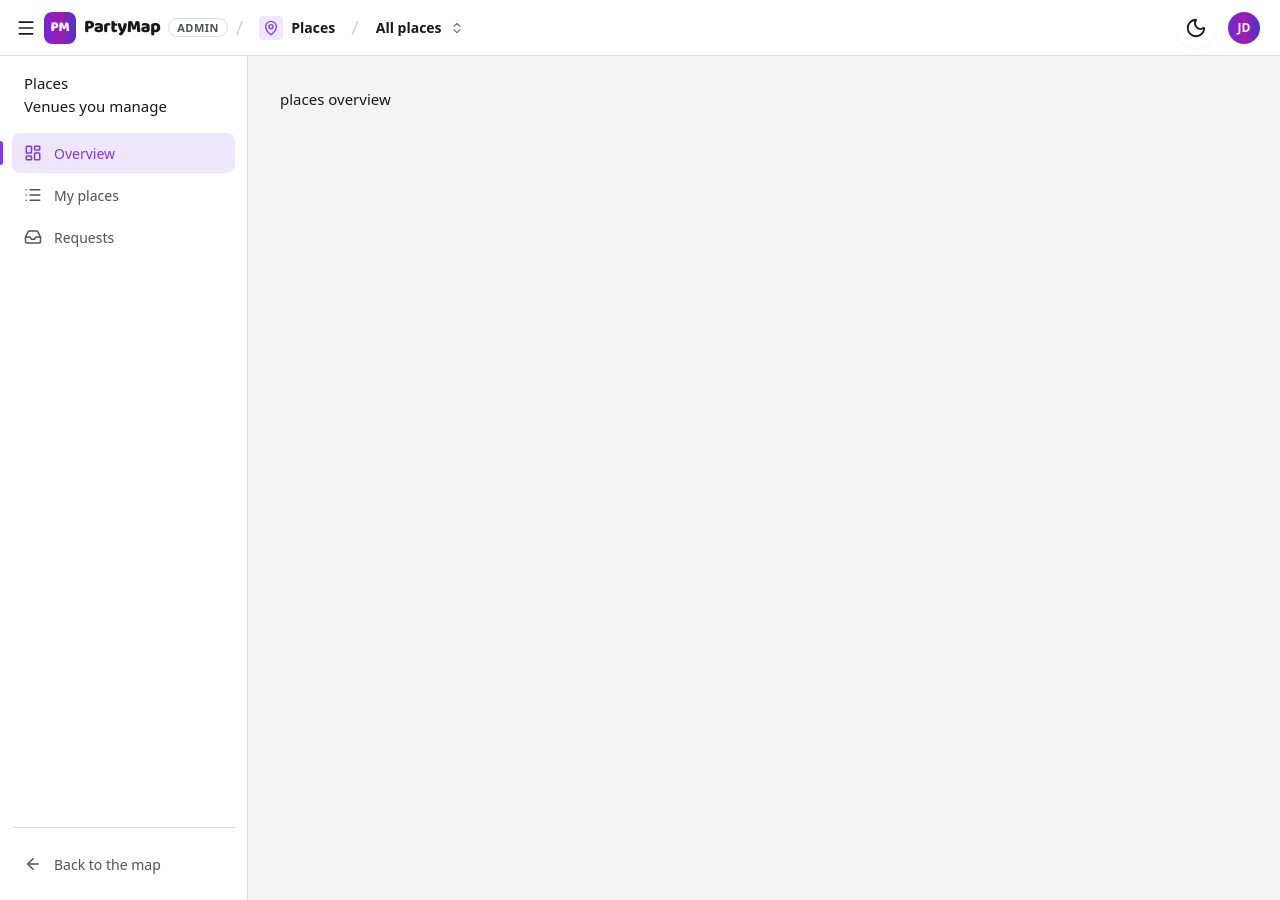
Scenario: AdminShell › a place's own area › offers every place in a second switcher, with all places and a new one
Click the button with aria-label "Place: All places. Switch place" at (420, 28), box [367, 10, 473, 46]
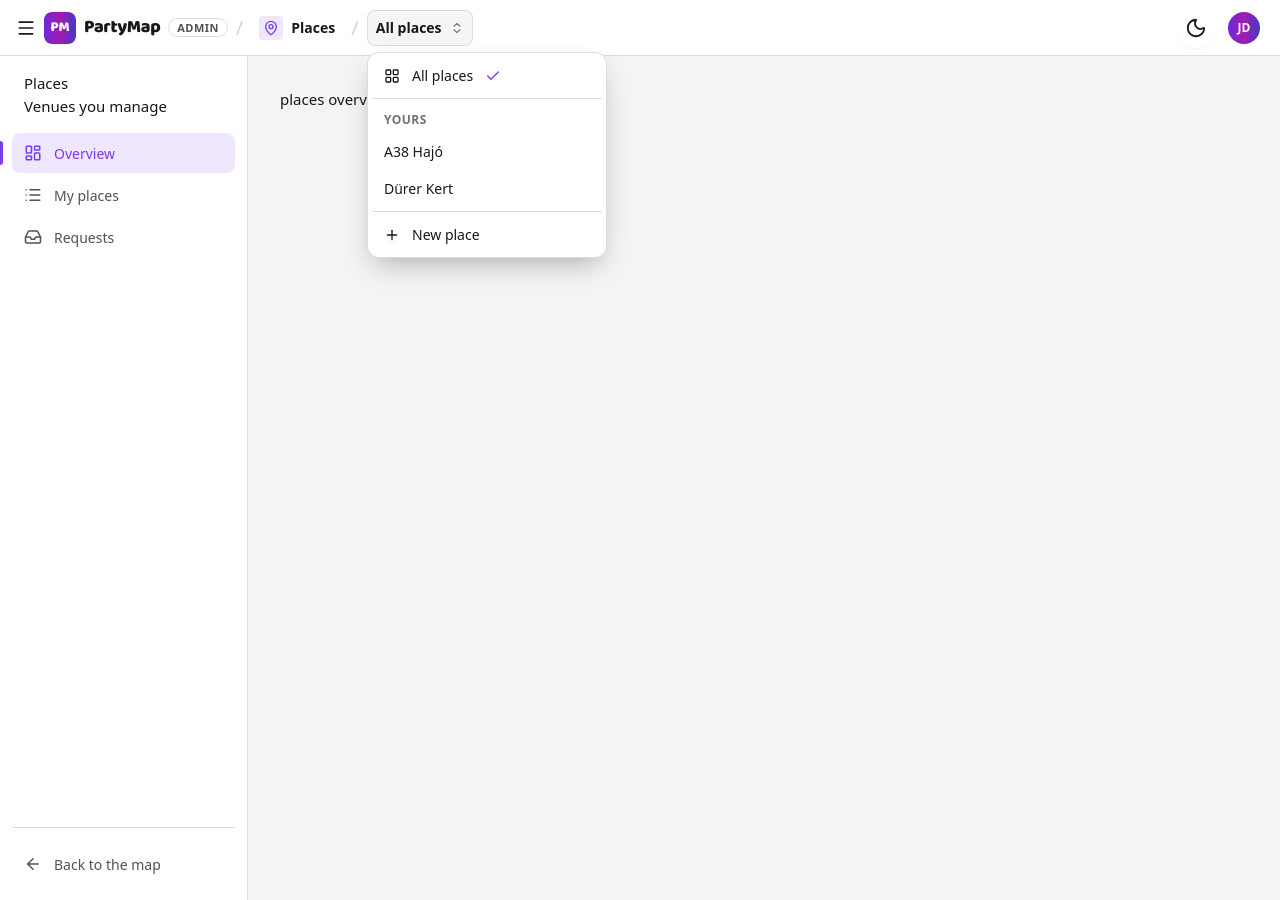
Result: the menu items read "All places", "A38 Hajó", "Dürer Kert", "New place", in this order
Click the menu item "A38 Hajó" at (413, 152), box [384, 142, 443, 161]
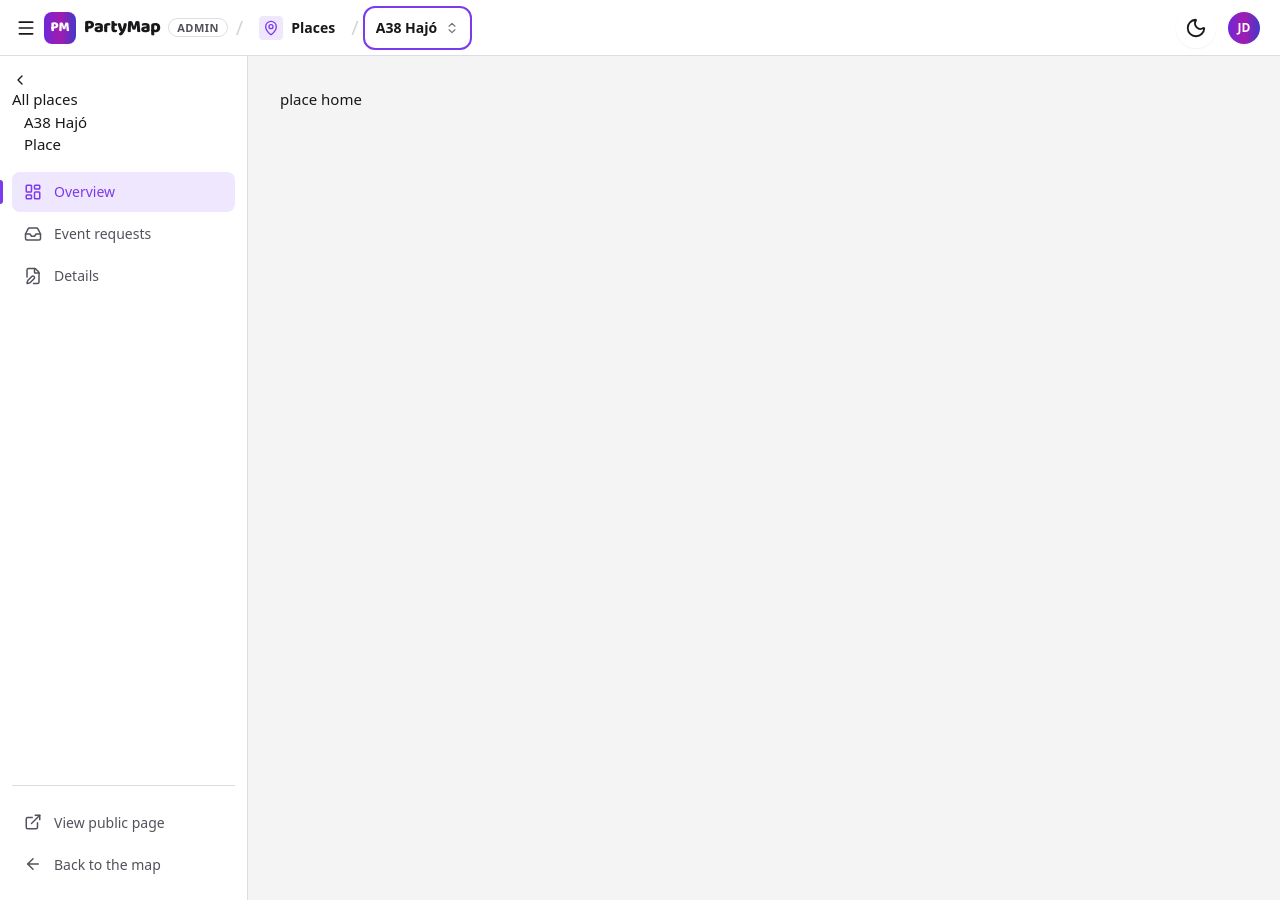
Result: the text "place home" is shown at [280, 89, 362, 109]
